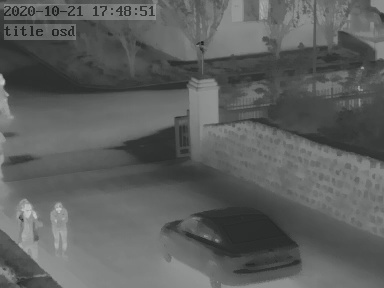person: (13, 197, 42, 258), (48, 199, 71, 263), (1, 71, 14, 119)
vehicle: (160, 211, 305, 288)
